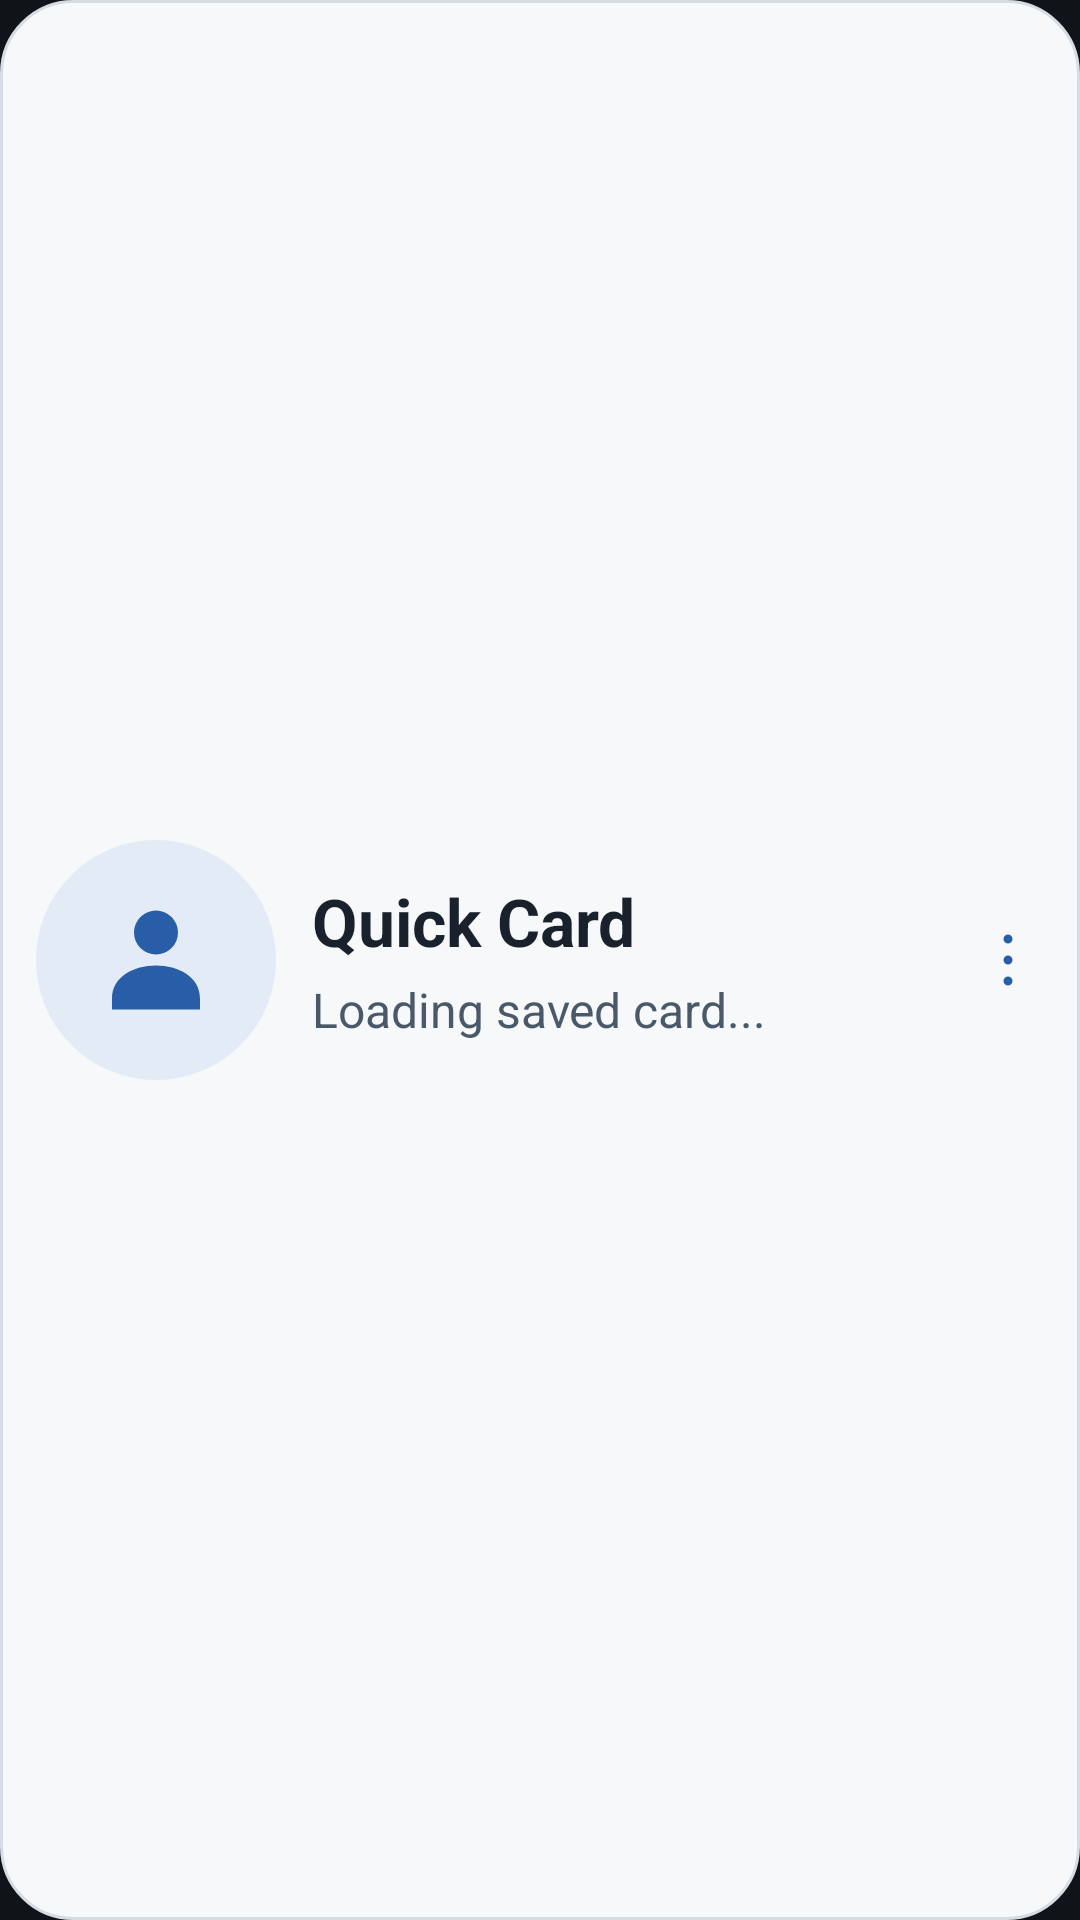

Icon click points for this 1080px x 1920px phone screenshot, format (x,y):
person: (156,960)
